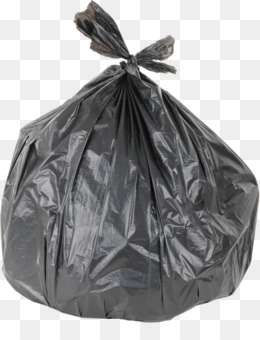plastic_bag: (1, 1, 260, 325)
